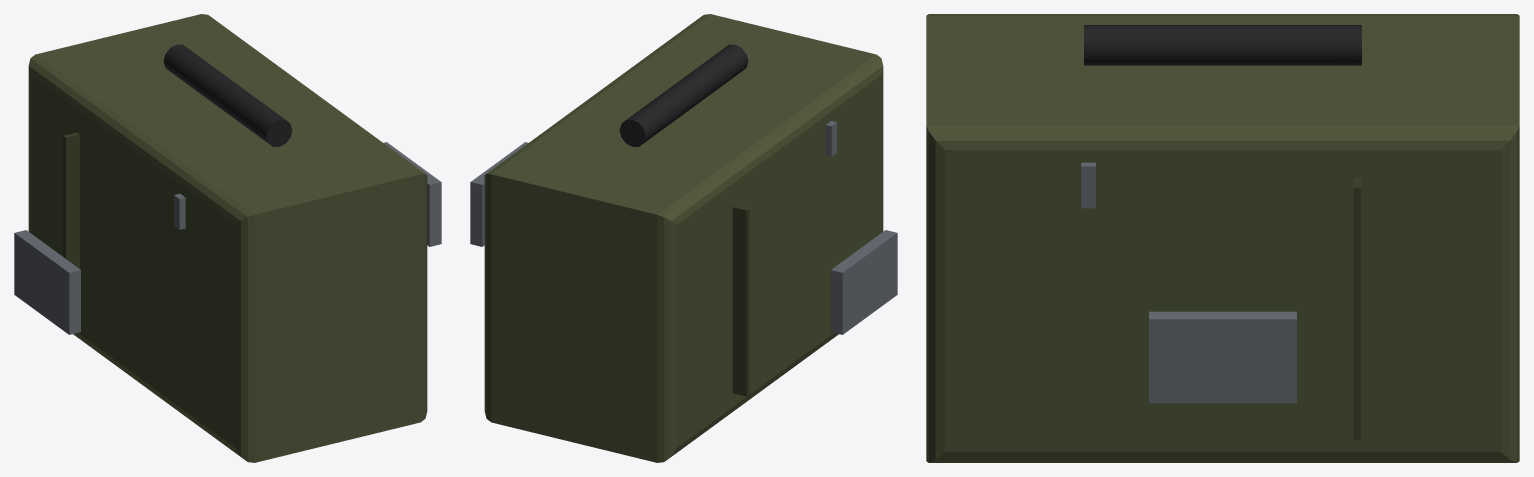
File: ammo_box.glb
3 renders of one model, left to right at view 1: azimuth 30°, elevation 25°; view 2: azimuth 150°, elevation 25°; view 3: azimuth 270°, elevation 25°, orthographic. The views are drawn at different scales.
Bounding box in the file's own units: 0.314 × 0.226 × 0.32.
